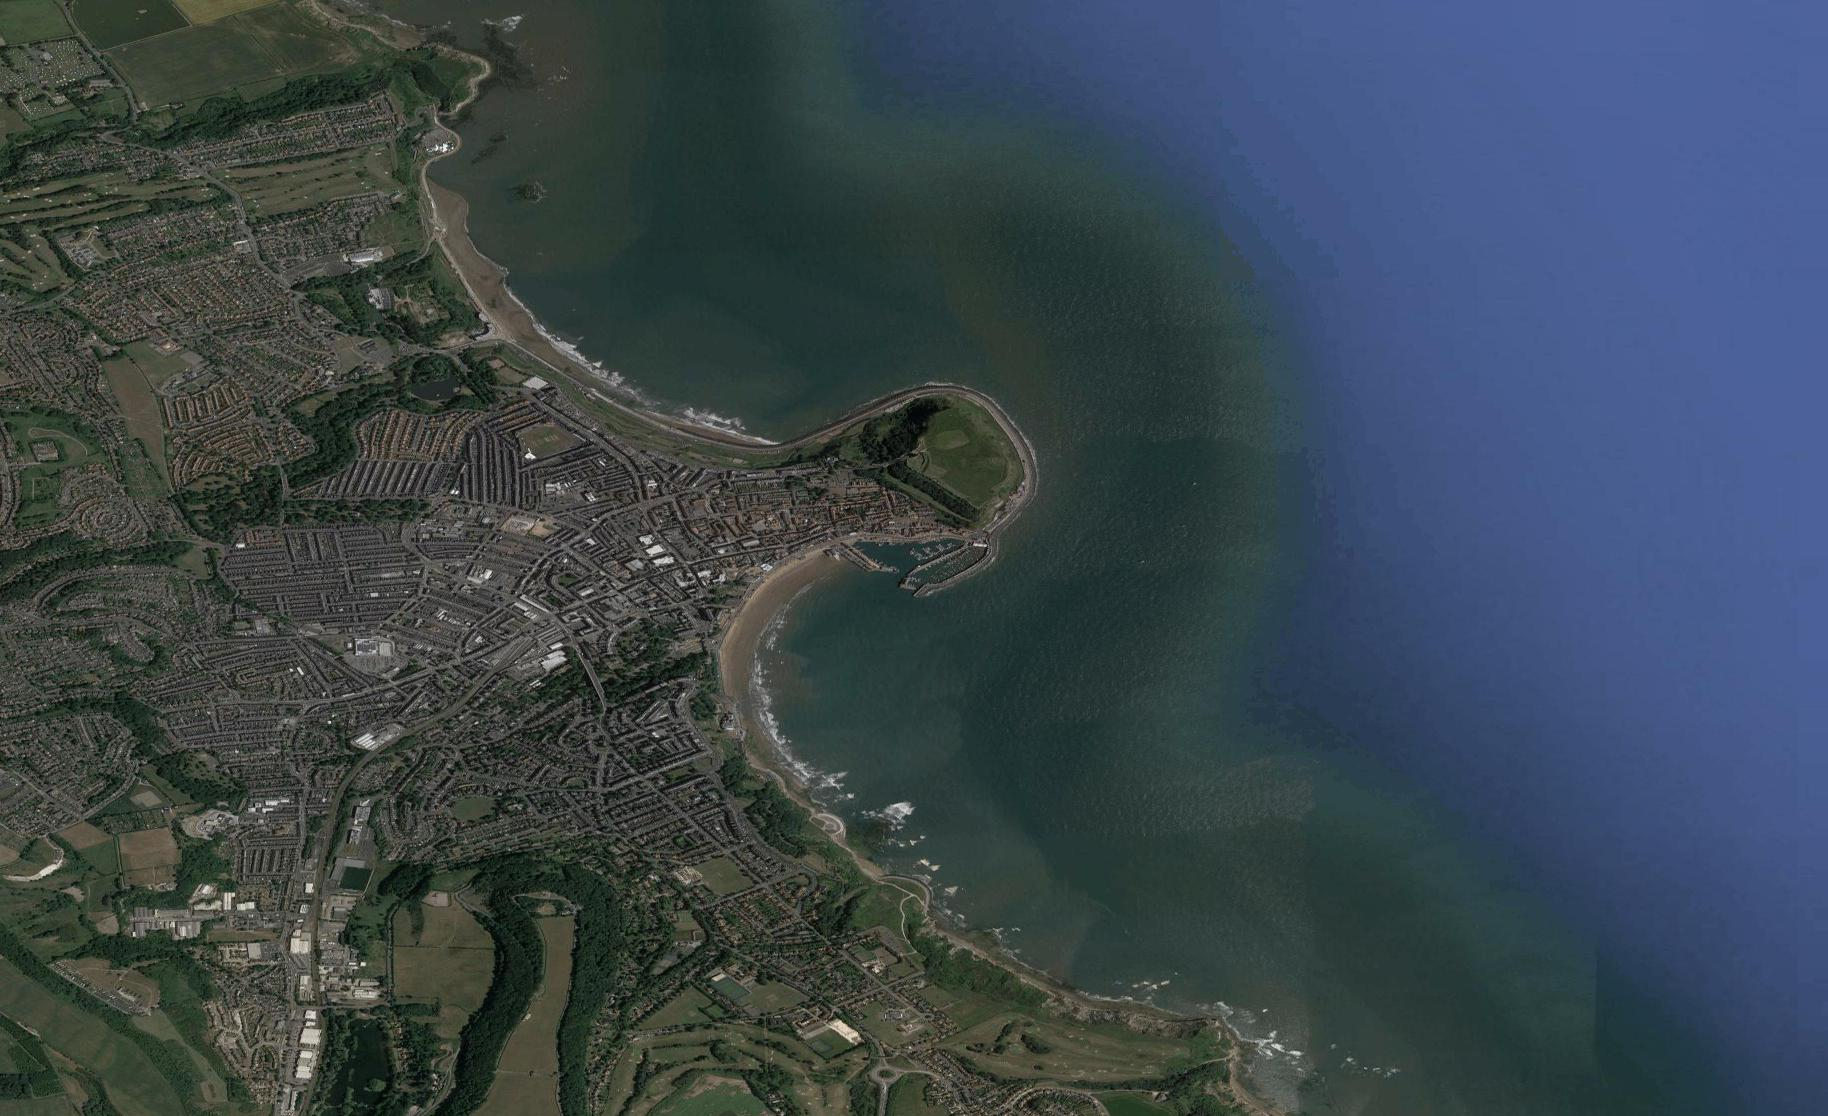harbor: (851, 527, 998, 606)
motorway: (582, 382, 689, 435), (806, 399, 894, 439), (691, 433, 806, 462), (985, 401, 1030, 463), (998, 467, 1035, 529), (897, 381, 985, 406)
